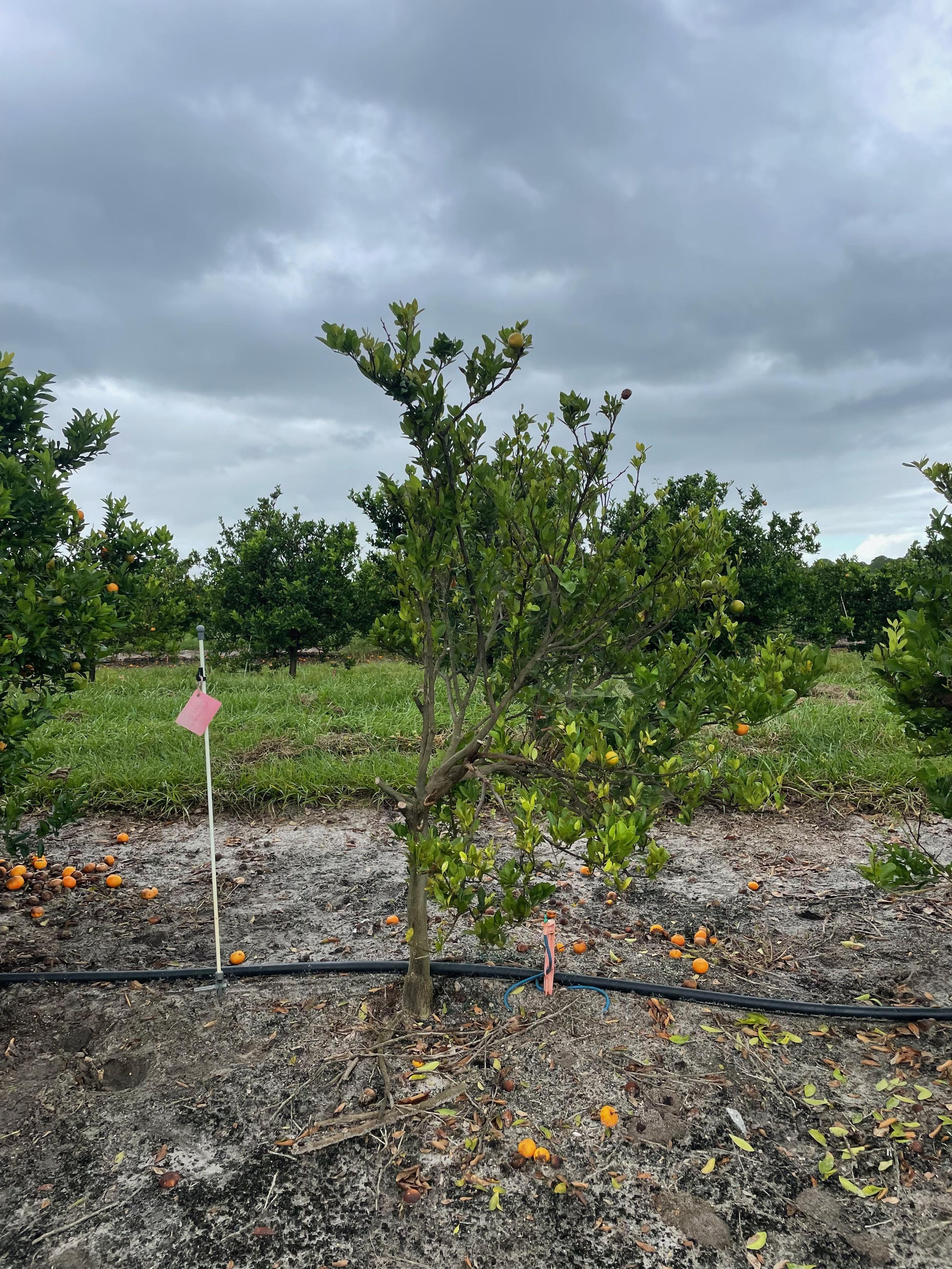fruit_on_ground: (506, 330, 525, 351), (603, 749, 620, 767), (733, 719, 750, 737), (728, 598, 746, 614), (19, 663, 35, 678), (105, 580, 120, 594), (99, 545, 114, 559), (394, 533, 408, 545), (620, 388, 633, 400), (72, 509, 85, 521), (0, 738, 10, 753), (70, 661, 82, 673), (124, 552, 136, 563), (150, 627, 156, 632)
fruit_on_tree: (598, 1103, 621, 1128), (158, 1169, 183, 1190), (517, 1135, 539, 1157), (227, 947, 247, 966), (690, 955, 709, 974), (534, 1145, 552, 1164), (4, 875, 24, 891), (32, 853, 49, 870), (105, 872, 123, 888), (9, 861, 28, 876), (383, 911, 401, 926), (140, 885, 159, 899), (571, 939, 588, 954), (668, 931, 685, 945), (681, 976, 699, 989), (30, 905, 46, 919), (668, 946, 684, 960), (693, 928, 709, 942), (649, 922, 666, 935), (102, 851, 117, 865), (115, 830, 130, 843), (579, 863, 593, 876), (62, 874, 76, 887), (82, 862, 97, 874), (707, 933, 720, 946), (50, 876, 64, 888), (61, 864, 75, 875), (555, 941, 567, 953), (747, 879, 760, 890), (0, 864, 8, 875)
